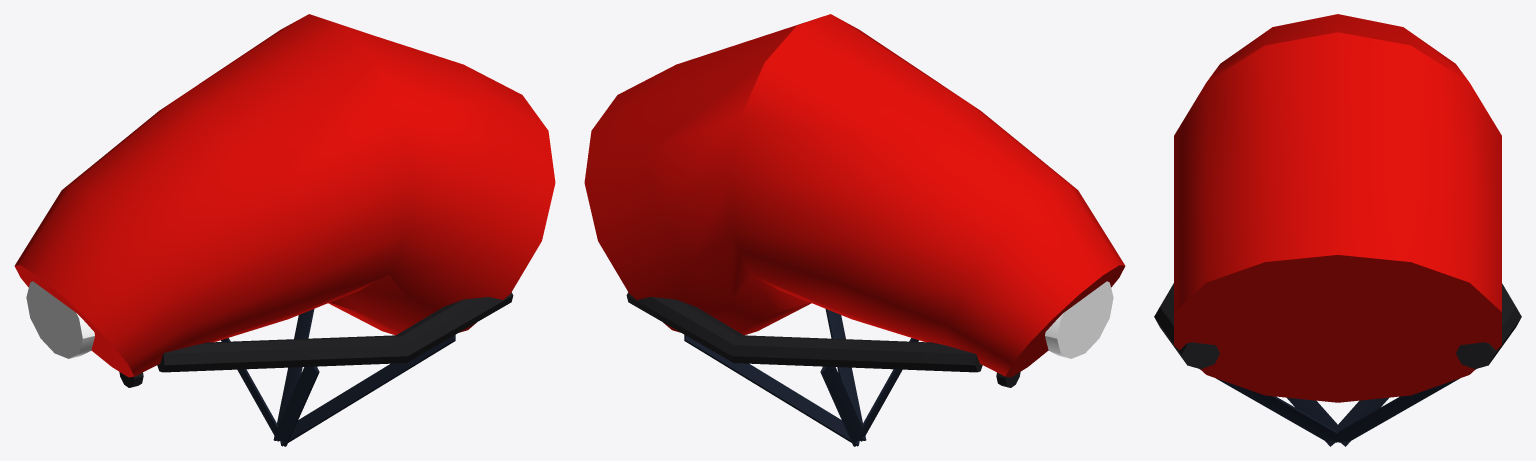
Rendered from helmet_aero.glb.
3 views of the same model, side by side, from view 1: azimuth 30°, elevation 25°; view 2: azimuth 150°, elevation 25°; view 3: azimuth 270°, elevation 25° (orthographic). The views are drawn at different scales.
Parts seen in each view (by area): view 1: Helmet_Aero; view 2: Helmet_Aero; view 3: Helmet_Aero.
Part boxes in pixels (x1=…): Helmet_Aero: x1=14, y1=14, x2=555, y2=446; Helmet_Aero: x1=584, y1=14, x2=1125, y2=446; Helmet_Aero: x1=1154, y1=14, x2=1521, y2=446.
Size of the model in its own units: 0.3174 by 0.2523 by 0.1879.
